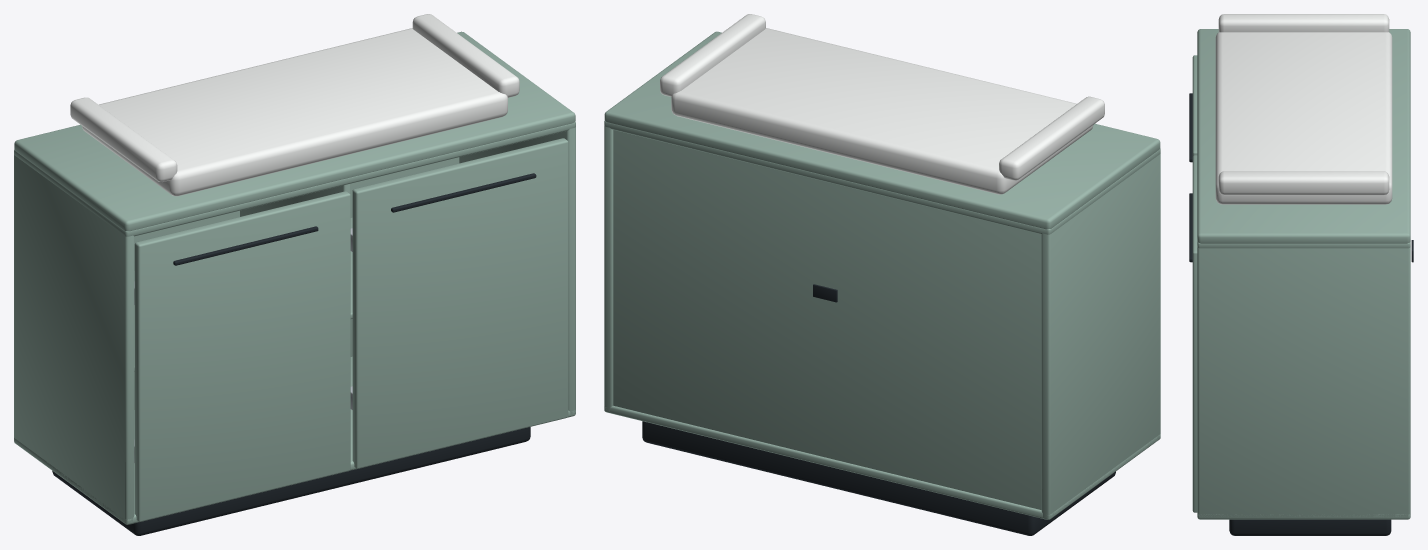
File: sage-nursery-dresser.glb
3 views of the same model, side by side, from view 1: azimuth 30°, elevation 25°; view 2: azimuth 150°, elevation 25°; view 3: azimuth 270°, elevation 25° (orthographic). The views are drawn at different scales.
Parts seen in each view (by area): view 1: catalog_surface_RealismUV, catalog_surface_UVMap; view 2: catalog_surface_RealismUV, catalog_surface_UVMap; view 3: catalog_surface_RealismUV, catalog_surface_UVMap.
Boxes of the visible parts, left/top/right/bottom form: catalog_surface_RealismUV: left=14, top=14, right=575, bottom=524; catalog_surface_UVMap: left=52, top=173, right=536, bottom=535; catalog_surface_RealismUV: left=604, top=14, right=1160, bottom=519; catalog_surface_UVMap: left=642, top=284, right=1115, bottom=535; catalog_surface_RealismUV: left=1192, top=14, right=1410, bottom=519; catalog_surface_UVMap: left=1189, top=93, right=1413, bottom=535.
Bounding box in the file's own units: 1.2 × 0.95 × 0.55.
